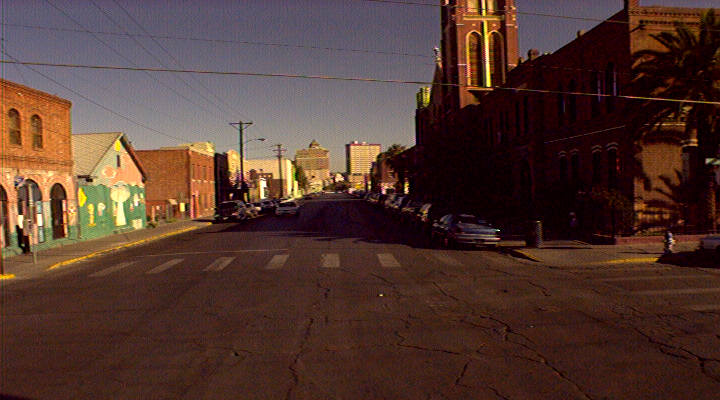Ramp: (521, 243, 618, 269), (2, 257, 58, 281)
